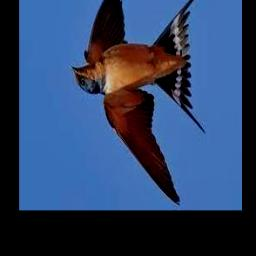Swallow: (68, 0, 205, 206)
